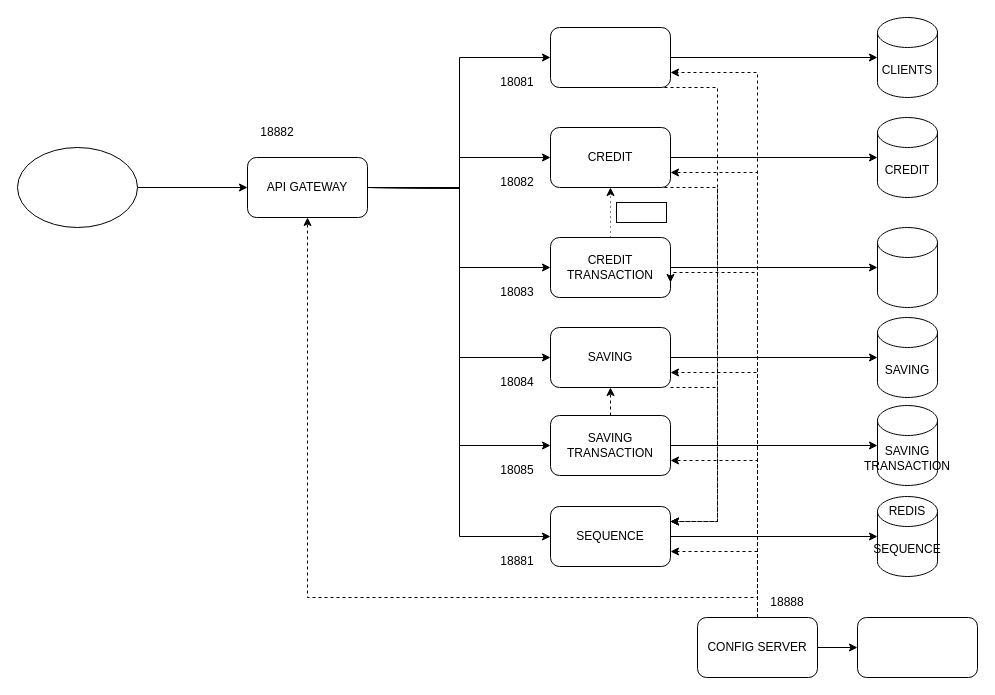
Image size: 995x695. Some labels were removed from this diagram. Here are the shapes that lost their labels. From the top down, the box of each, then its label:
(550, 26, 670, 88): CLIENT
(16, 146, 138, 228): POSTMAN
(616, 202, 666, 222): Kafka
(876, 226, 938, 308): CREDIT TRANSACTIONS
(856, 616, 978, 678): CONFIG FILES GITLAB
